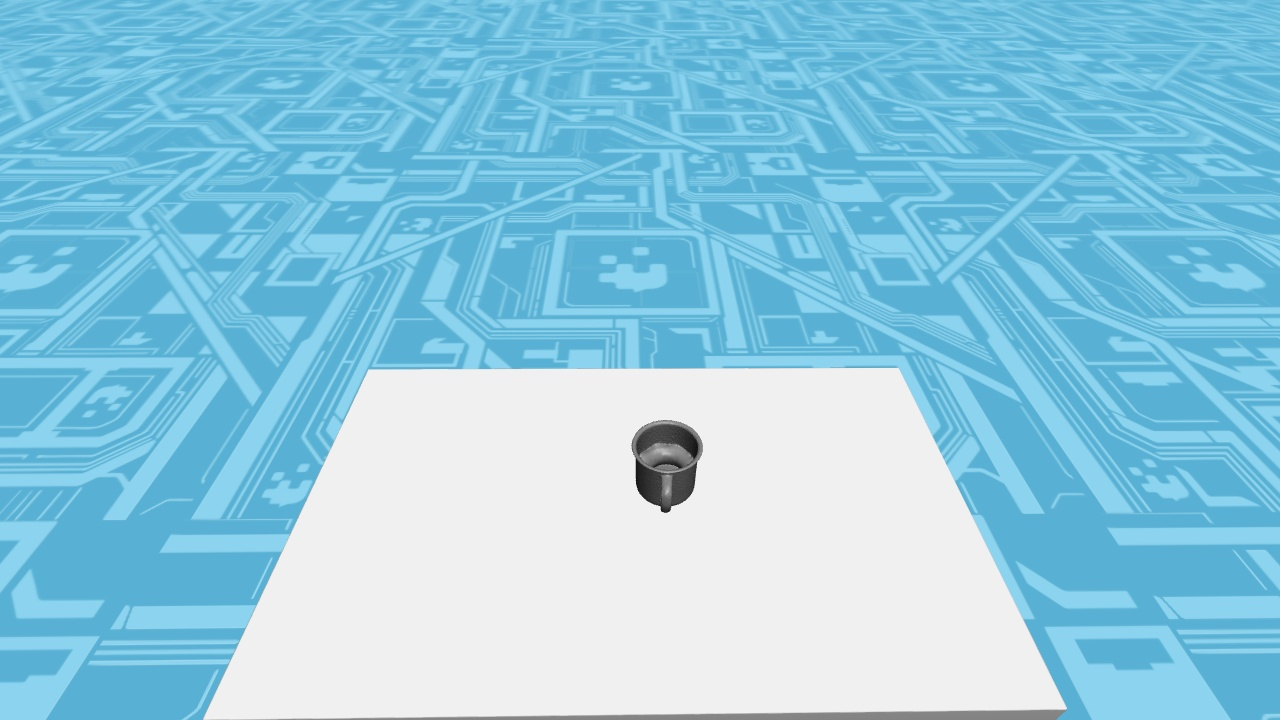mug: (632, 420, 702, 512)
